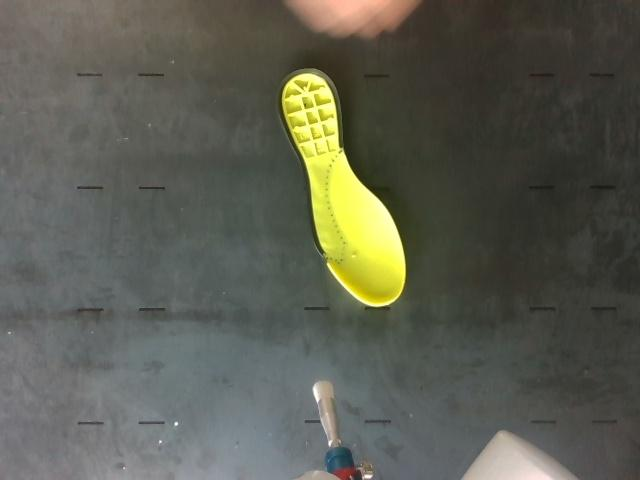shoes: (277, 68, 405, 306)
